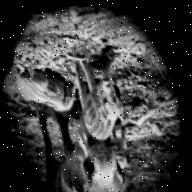boar: (41, 104, 129, 192), (66, 45, 136, 146), (12, 60, 81, 120)
